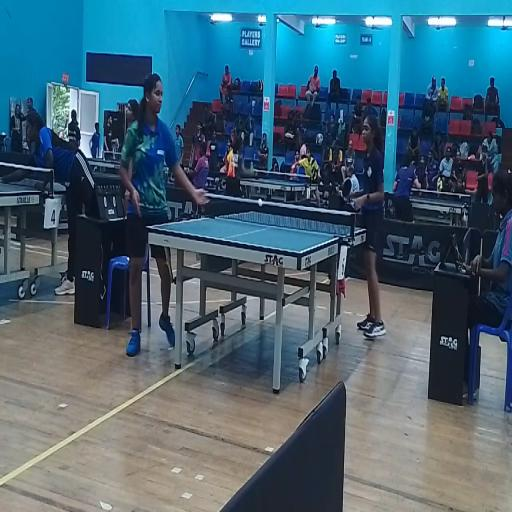ball: (259, 199, 262, 207)
